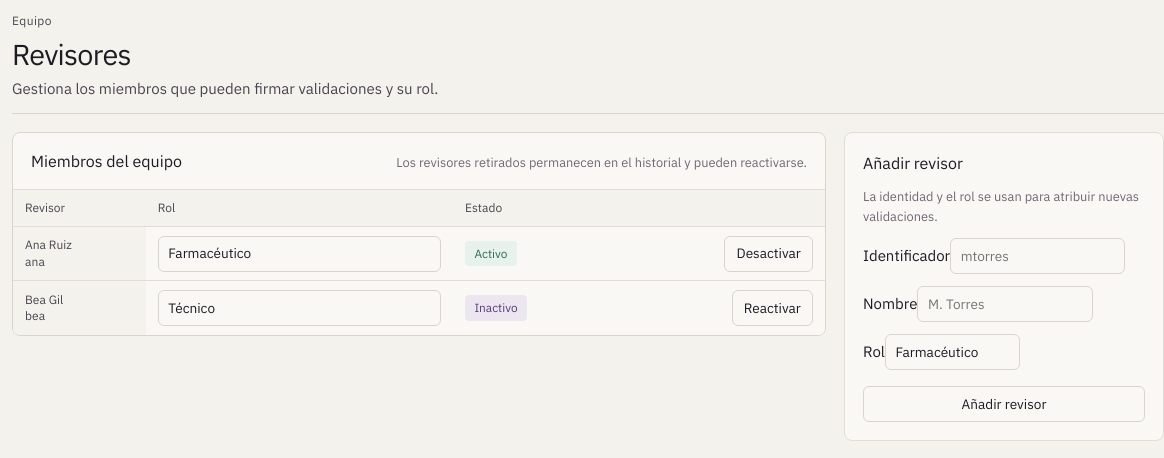
Test case: da de alta un revisor con su rol
Check: the text "Ana Ruiz" is shown, box [25,237,72,252]
Type "carlos" into the field labelled "Identificador". click: (1038, 256)
box: [950,238,1125,274]
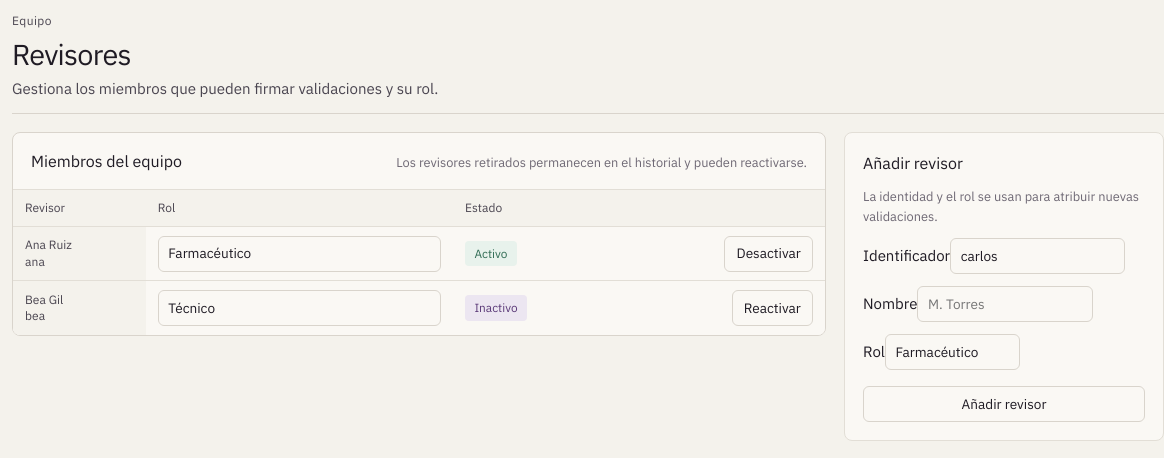
Type "Carlos Vera" into the field labelled "Nombre". click: (1005, 304)
box: [918,286,1093,322]
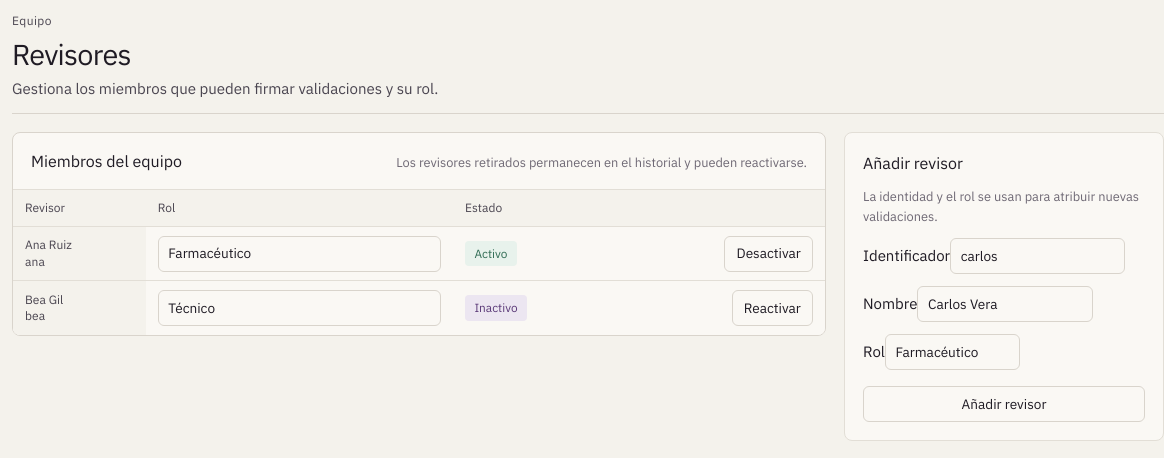
Select "Científico de datos" in the dropdown labelled "Rol". click: (952, 352)
box: [885,334,1020,370]
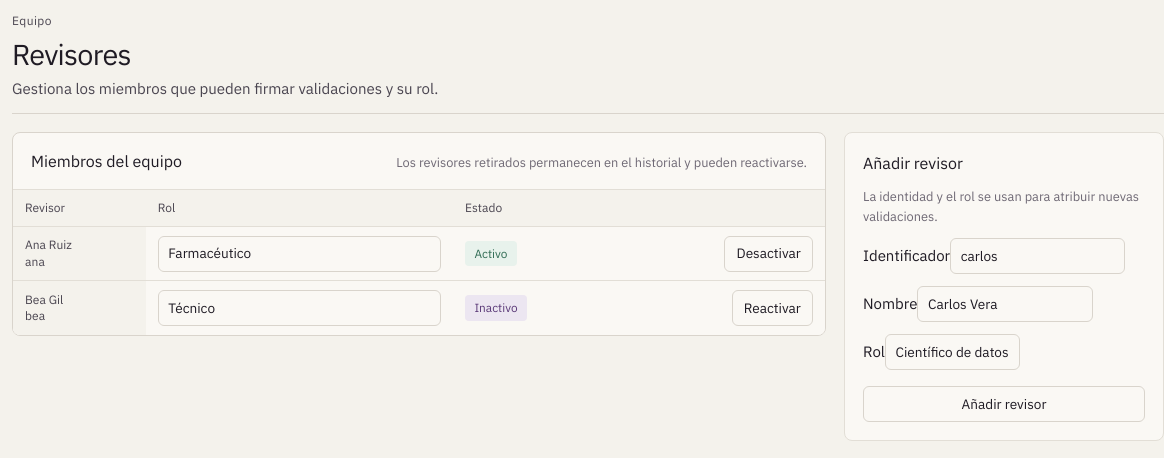
Click the button "Añadir revisor". click: (1004, 404)
box: [863,386,1145,422]
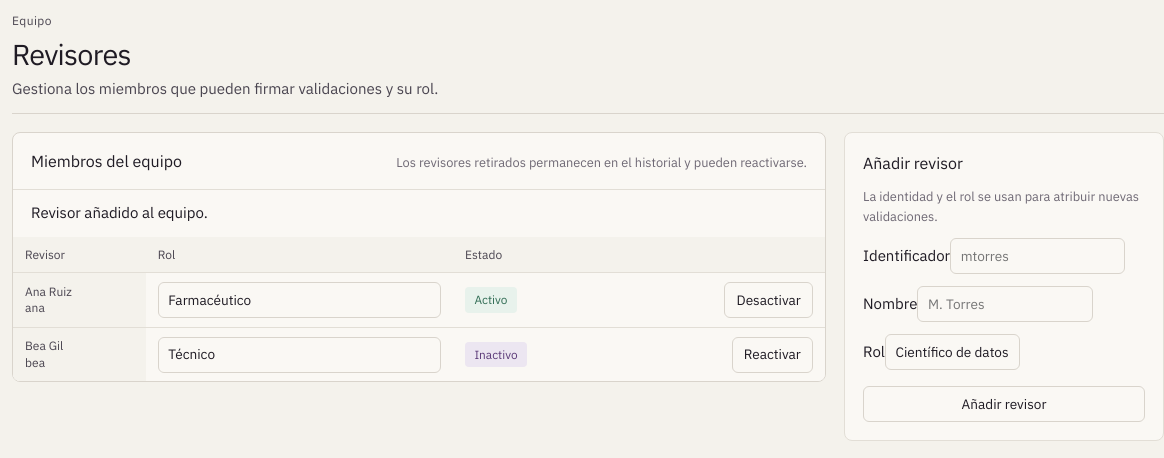
Check: the text "Revisor añadido al equipo." is shown, box [31,203,208,222]
